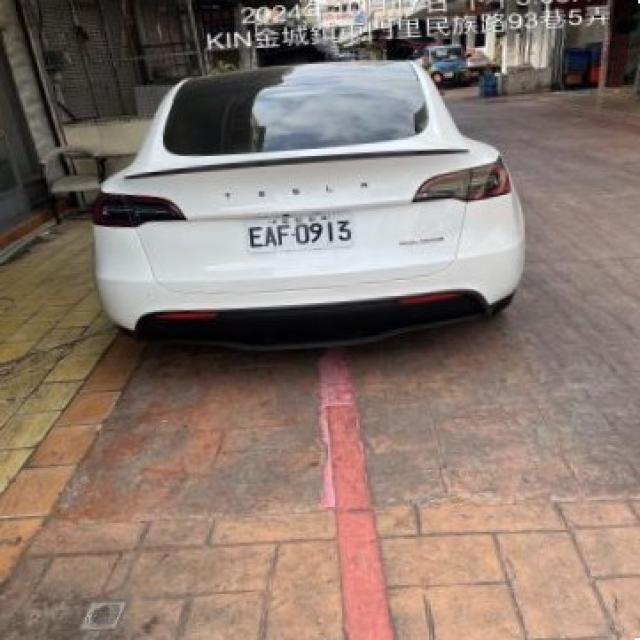illegalparking: (94, 60, 523, 347)
